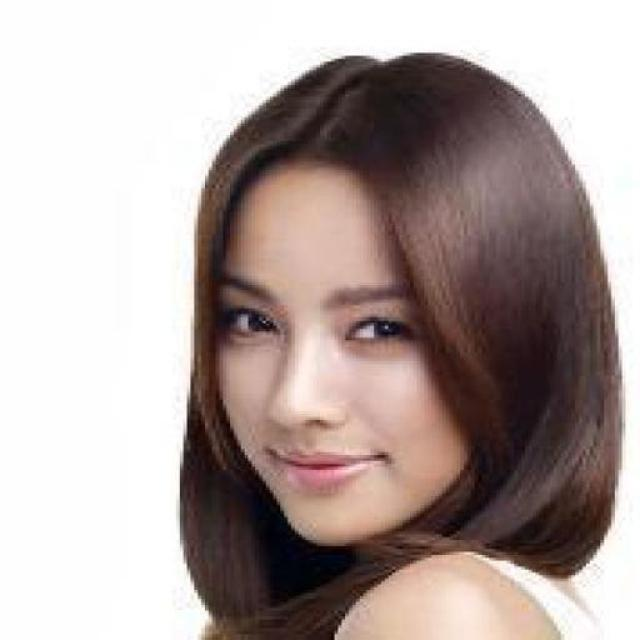bareface: (176, 127, 490, 521)
